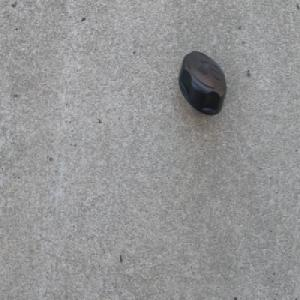FuelCap: (176, 50, 227, 120)
